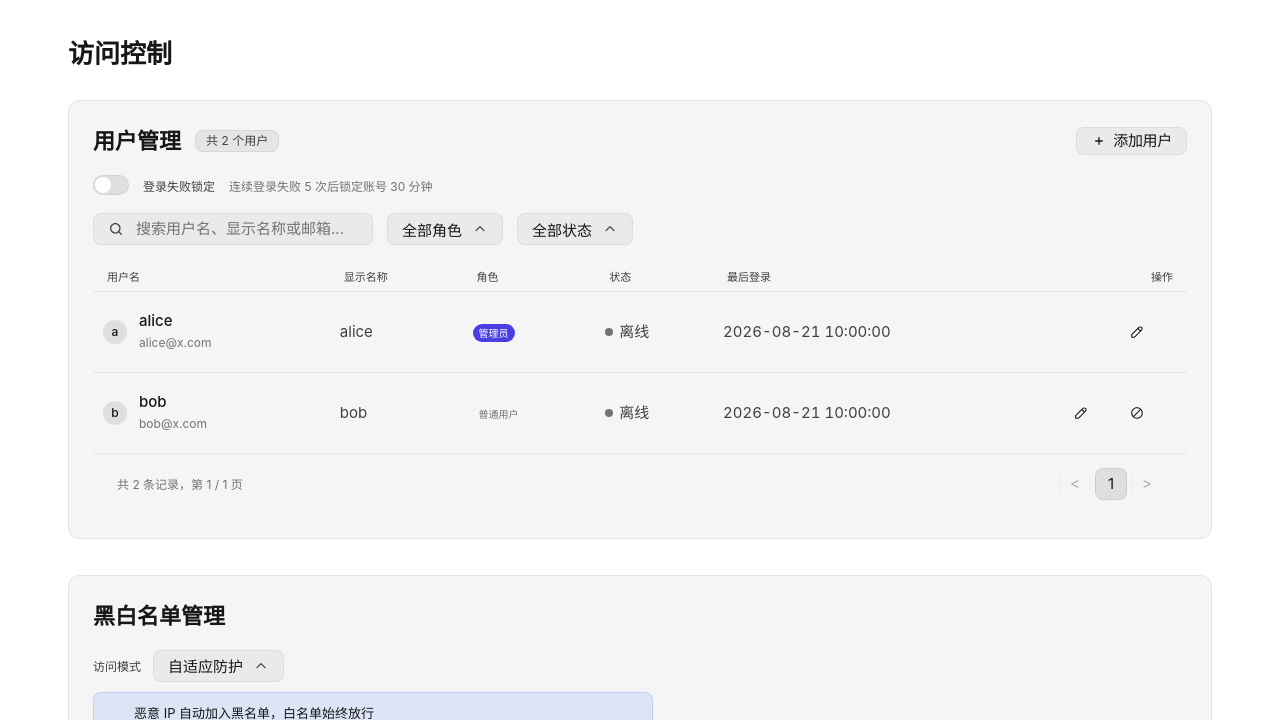
Test case: UserManagementView › 列表渲染用户并按搜索框过滤
Type "bob" into the field with placeholder "搜索用户名、显示名称或邮箱..." at (246, 229), box top-left (134, 217), bottom-right (358, 241)
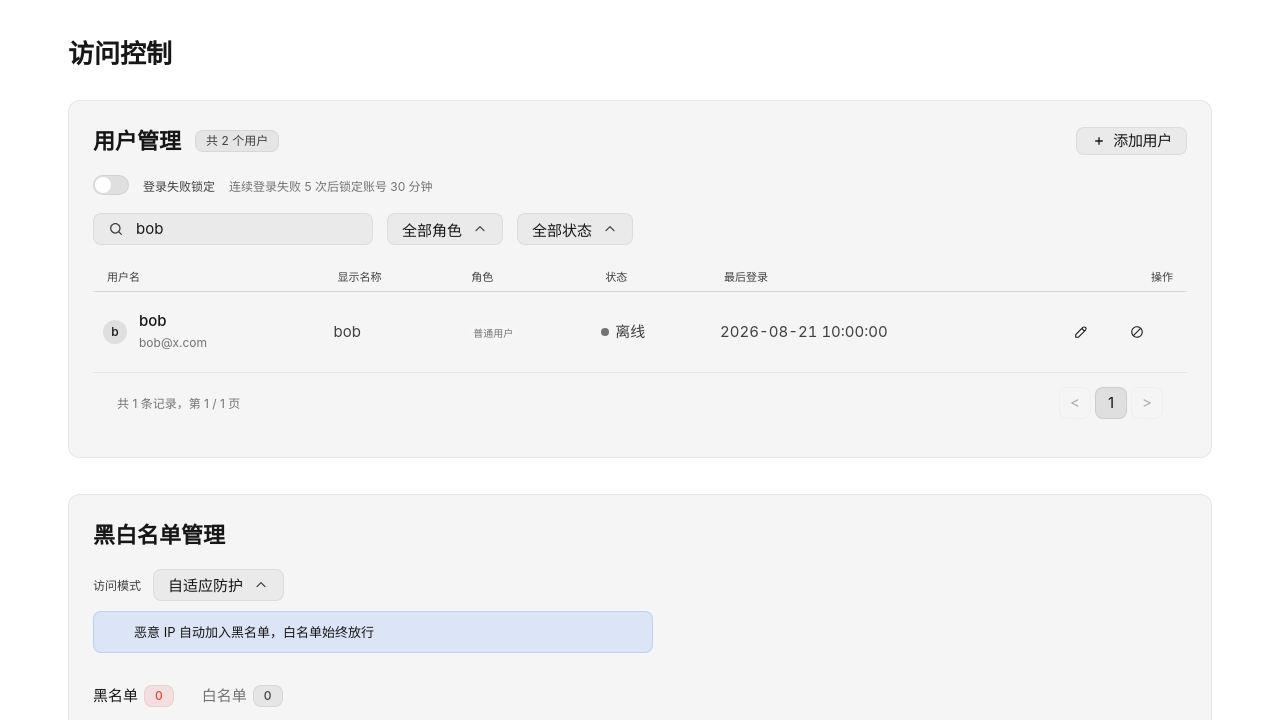
Expected: the text "bob" is shown, top-left (139, 310), bottom-right (167, 330)
Now the text "alice" is gone
